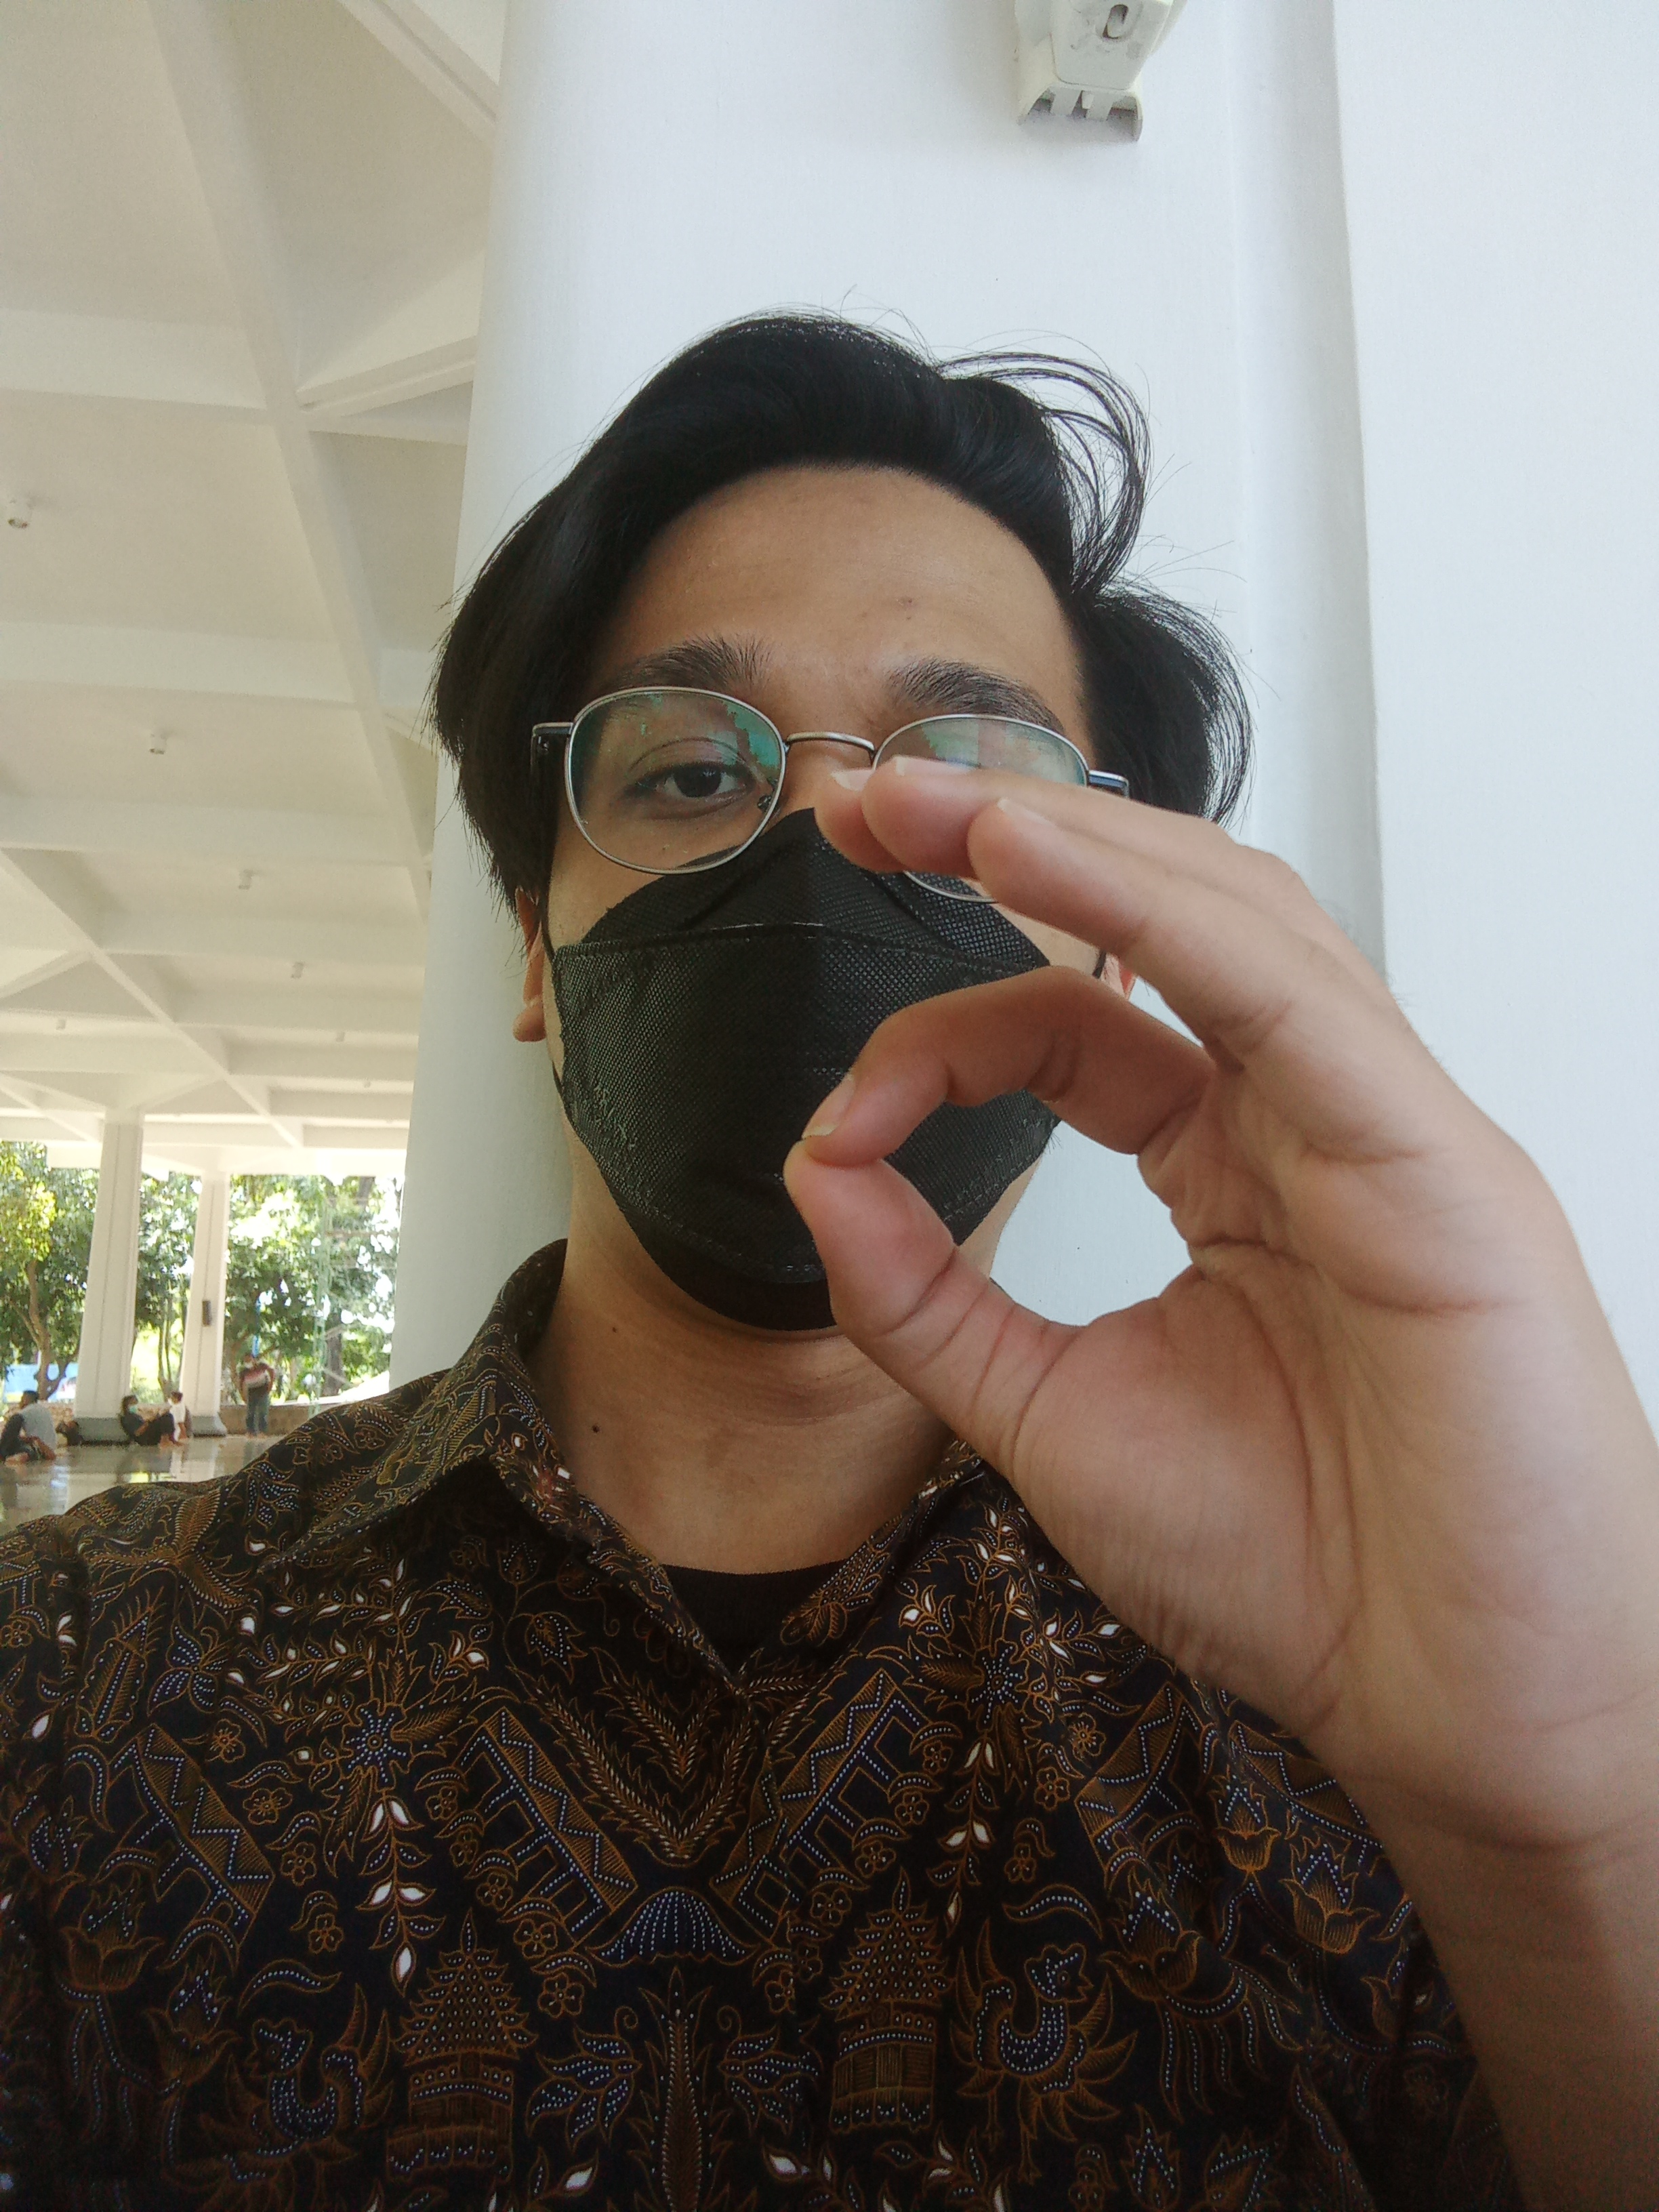O: (777, 742, 1659, 1851)
